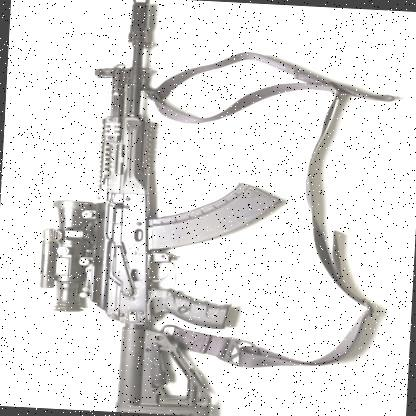rifle: (9, 0, 283, 416)
